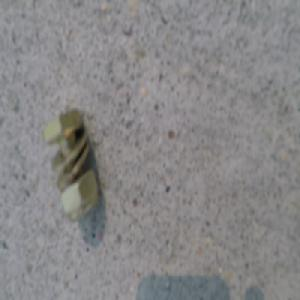BoltNutSet: (48, 110, 103, 220)
